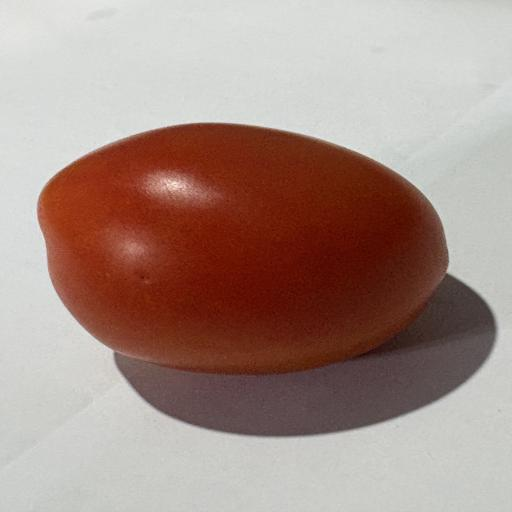ripe: (38, 123, 448, 374)
